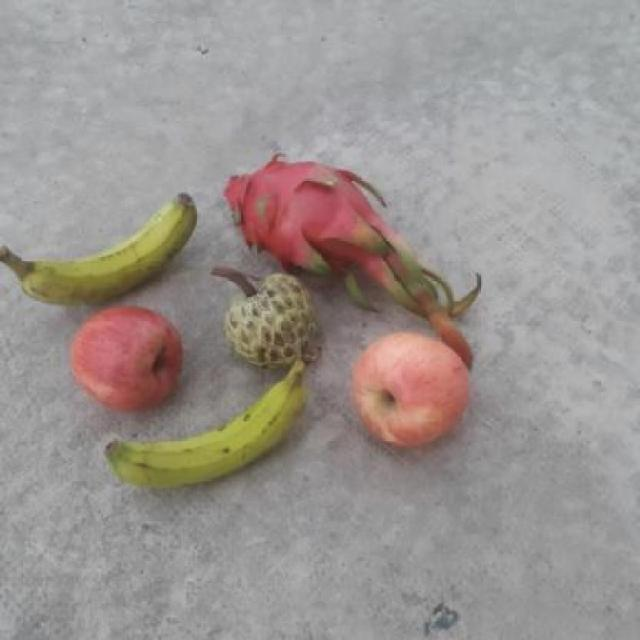apple: (349, 327, 478, 450), (68, 308, 182, 408)
banana: (99, 349, 318, 494), (0, 186, 202, 303)
dragon fruit: (222, 154, 381, 272)
sugar apple: (220, 269, 322, 373)
